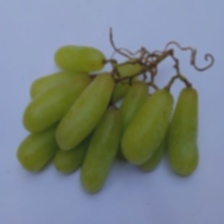grapes: (15, 24, 198, 212)
